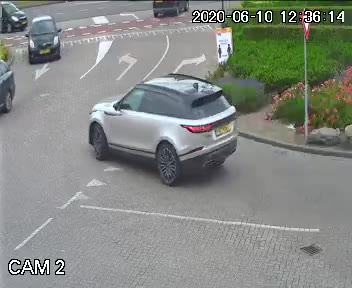car: (81, 65, 237, 192), (26, 15, 66, 66), (149, 0, 194, 24), (0, 0, 29, 35)
